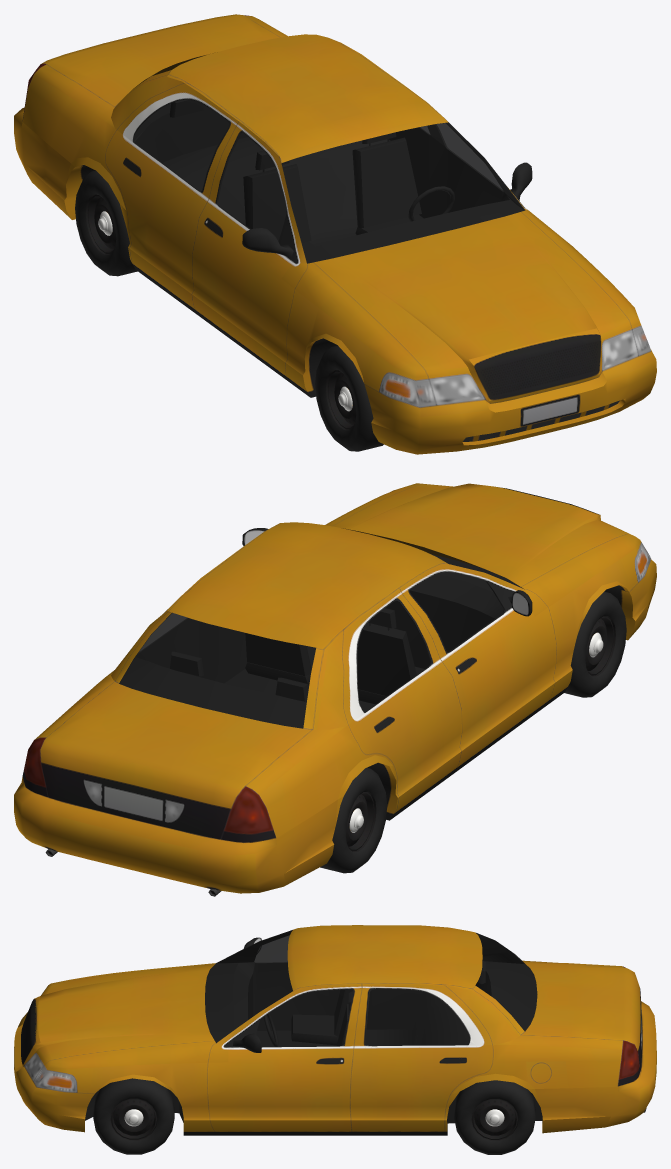
The model's file is car-LWVS.glb.
3 views of the same model, one above another, from view 1: azimuth 30°, elevation 25°; view 2: azimuth 150°, elevation 25°; view 3: azimuth 270°, elevation 25° (orthographic). The views are drawn at different scales.
Visible parts, largest first — view 1: Korpus001_carMat_0, Korpus001_windowsMat_0; view 2: Korpus001_carMat_0, Korpus001_windowsMat_0; view 3: Korpus001_carMat_0, Korpus001_windowsMat_0.
Boxes of the visible parts, x1,y1,x2,y2 form: Korpus001_carMat_0: [14, 14, 656, 454]; Korpus001_windowsMat_0: [133, 55, 524, 263]; Korpus001_carMat_0: [14, 483, 656, 896]; Korpus001_windowsMat_0: [119, 528, 523, 728]; Korpus001_carMat_0: [14, 925, 656, 1154]; Korpus001_windowsMat_0: [205, 930, 537, 1047].
Bounding box in the file's own units: 1.48 × 1.04 × 3.81.
Materials: 2 (1 with a texture image).
